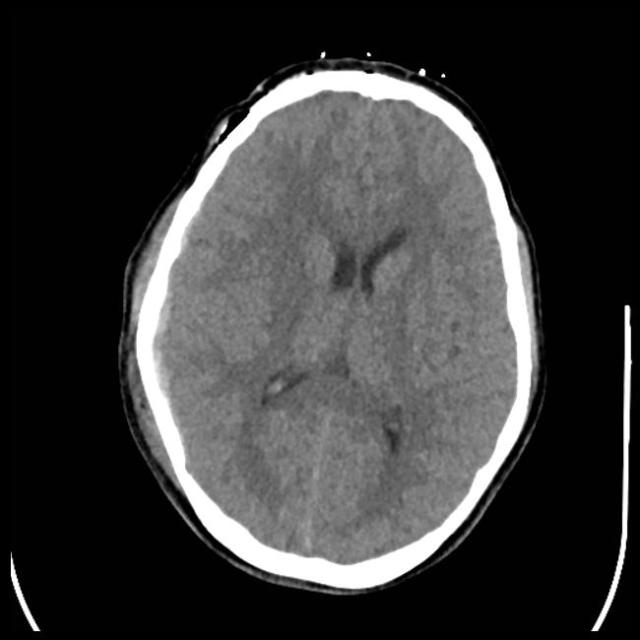lesion: (118, 58, 547, 591)
